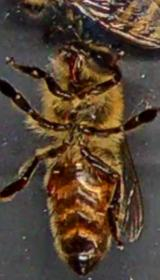varroa_mite: (36, 168, 64, 200)
